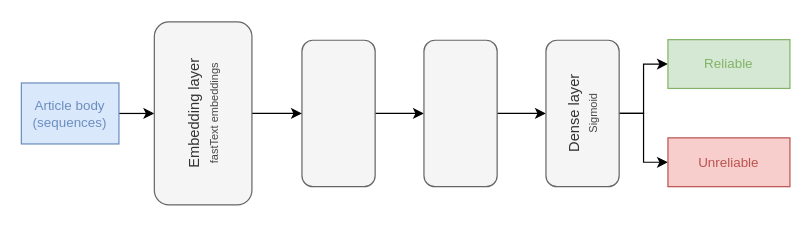
Image size: 811x226. Some labels were removed from this diagram. Each missing label, with the centre of its shape:
Bidirectional LSTM layer tanh: [338,113]
Dense layer ReLU: [460,113]
